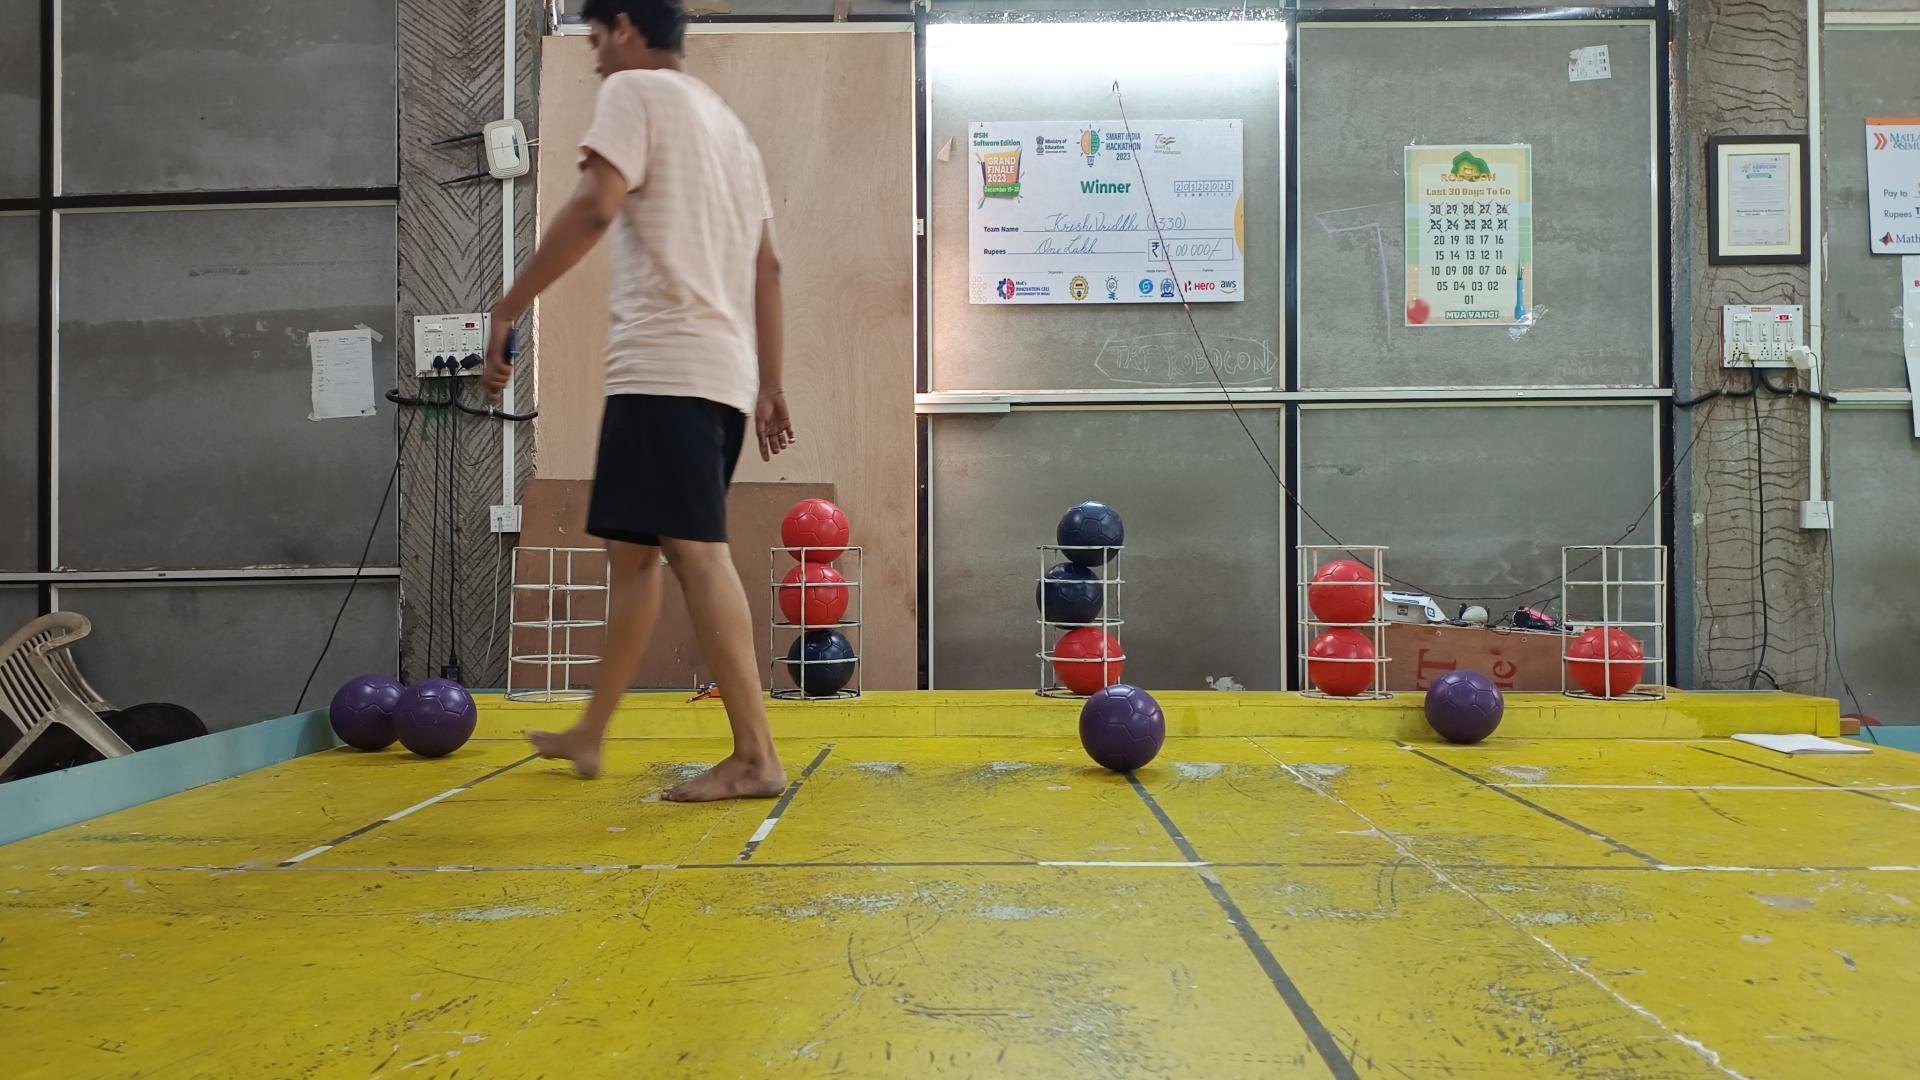dhoka: (787, 630, 855, 698), (1058, 502, 1125, 566), (1039, 563, 1102, 622)
laale: (1568, 626, 1643, 698), (1308, 626, 1377, 698), (1054, 626, 1125, 694), (777, 563, 852, 626), (781, 498, 852, 563), (1308, 559, 1377, 622)
